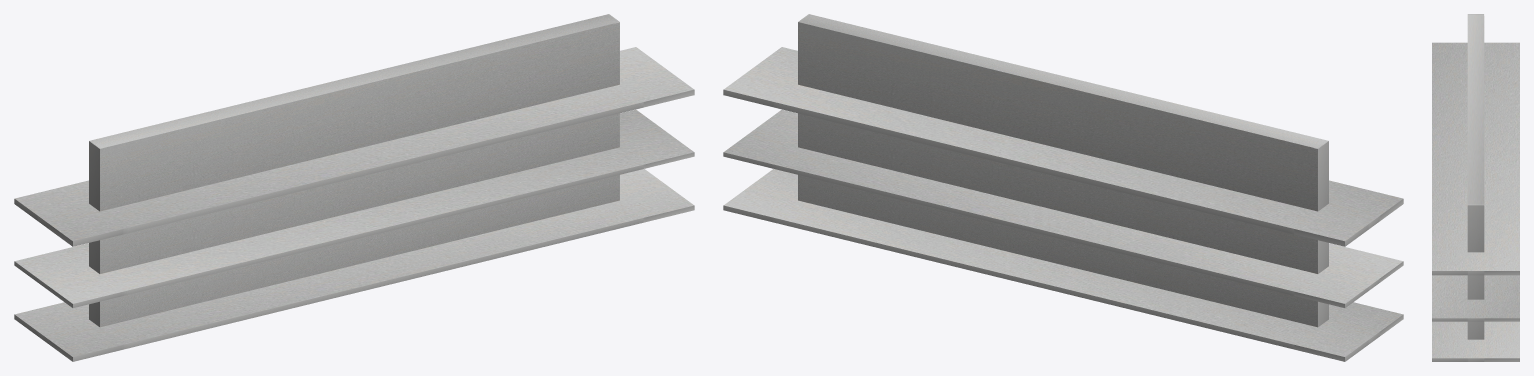
File: HyllerButikk.glb
3 renders of one model, left to right at view 1: azimuth 30°, elevation 25°; view 2: azimuth 150°, elevation 25°; view 3: azimuth 270°, elevation 25°, orthographic. The views are drawn at different scales.
Visible parts, largest first — view 1: HylleButikk; view 2: HylleButikk; view 3: HylleButikk.
Boxes of the visible parts, box(x1,y1,x2,y2) form: HylleButikk: box(14, 14, 694, 361); HylleButikk: box(723, 14, 1403, 361); HylleButikk: box(1432, 14, 1519, 361).
Bounding box in the file's own units: 64.65 × 18.68 × 10.51.
Materials: 1 (1 with a texture image).
